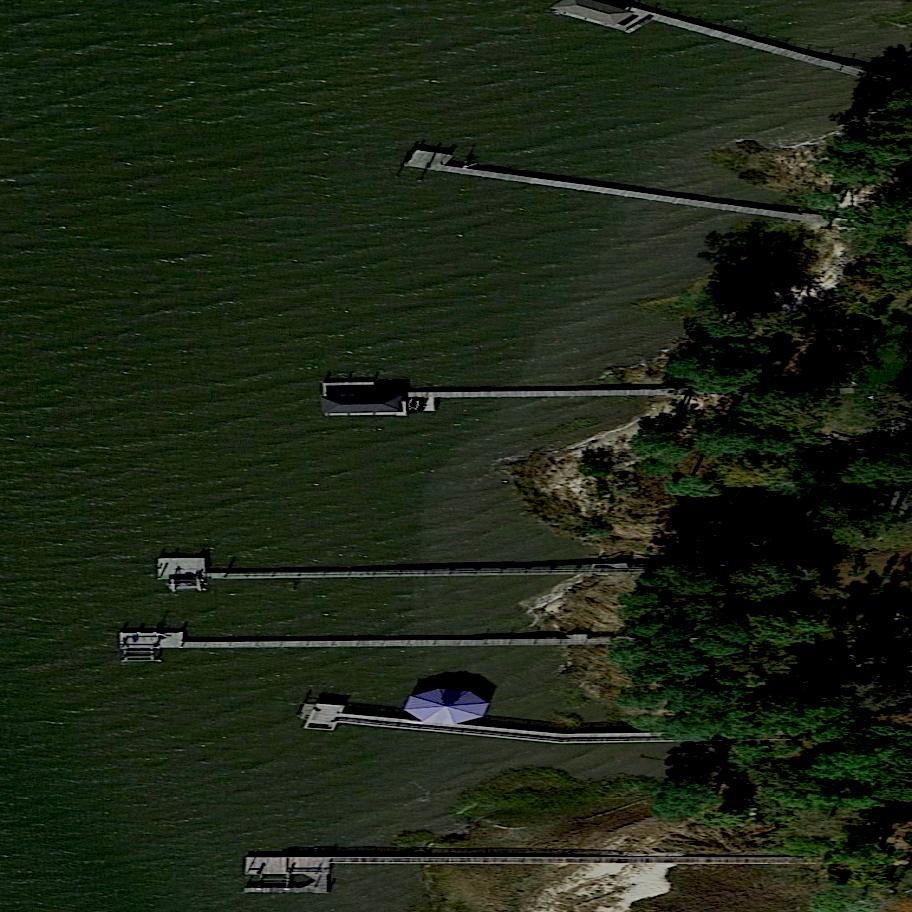ship: (406, 397, 424, 412)
